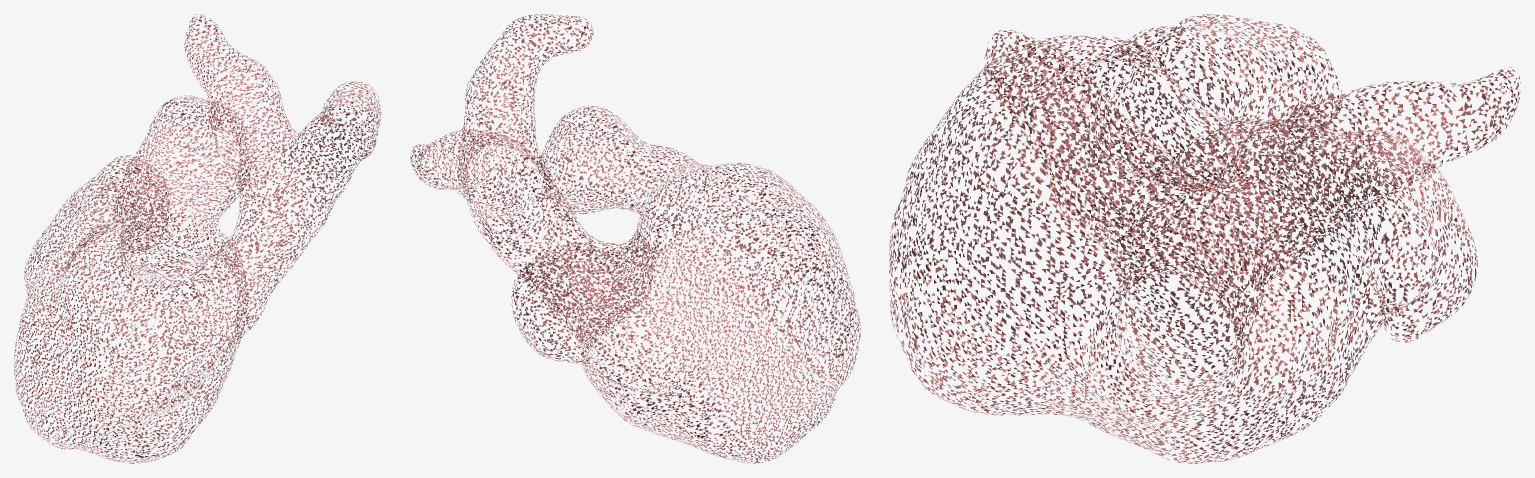
Rendered from heart.glb.
The picture shows the model from 3 angles, left to right: view 1: azimuth 30°, elevation 25°; view 2: azimuth 150°, elevation 25°; view 3: azimuth 270°, elevation 25°; orthographic projection. The views are drawn at different scales.
Bounding box in the file's own units: 127 × 118 × 117.
